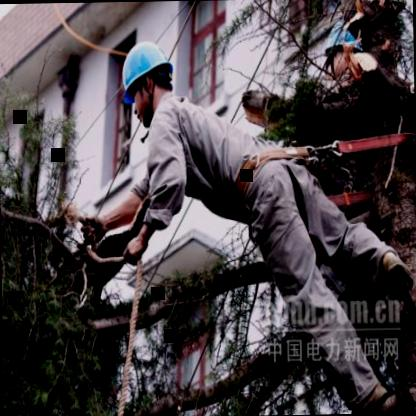helmet: (122, 37, 180, 123)
